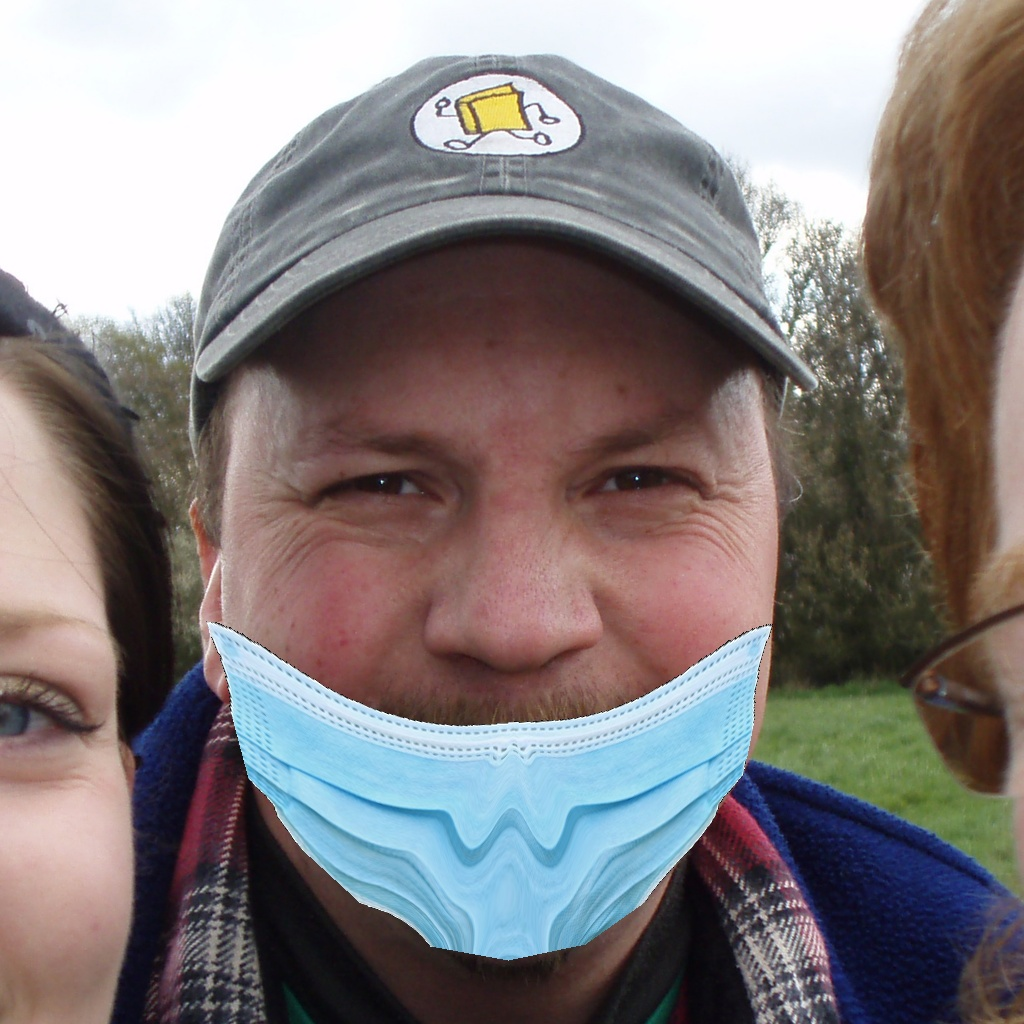mascarilla_mal_puesta: (194, 373, 799, 940)
